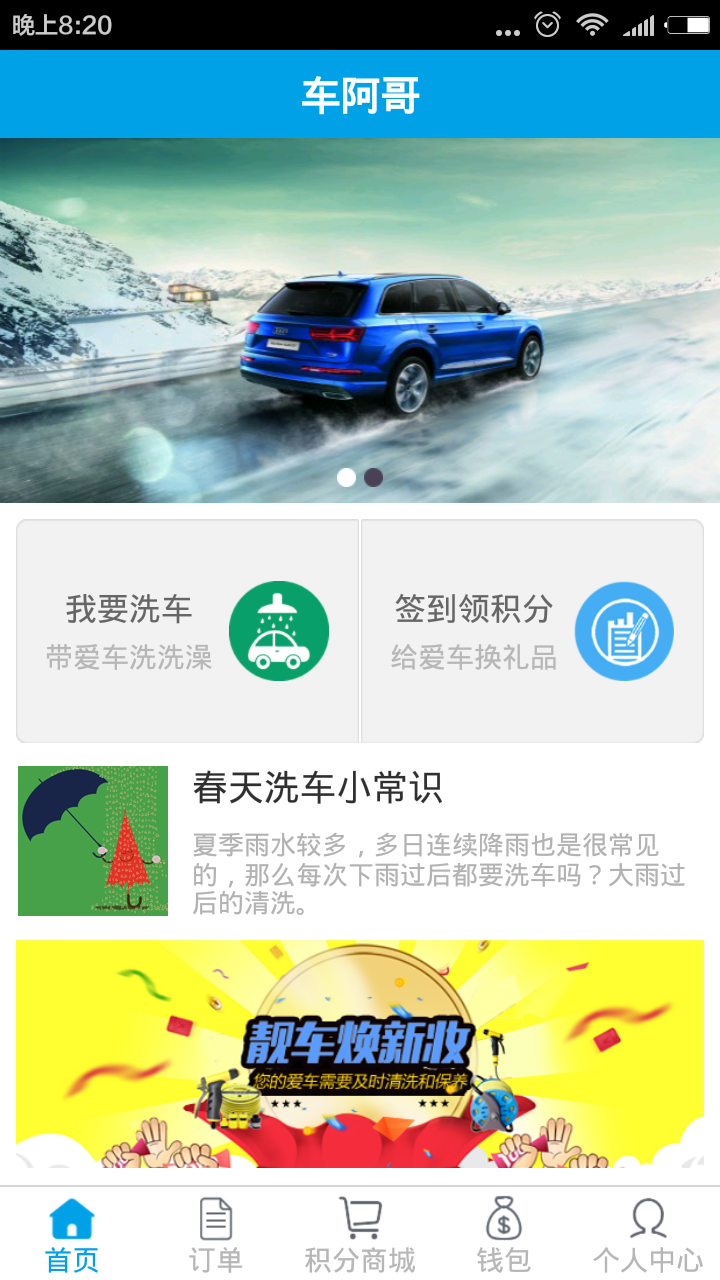imgbutton: (217, 560, 337, 683), (570, 569, 679, 691)
imgview: (8, 929, 717, 1177)
nav: (9, 1190, 712, 1280)
textview: (195, 767, 697, 925)
